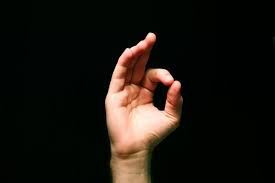OK: (92, 35, 193, 153)
